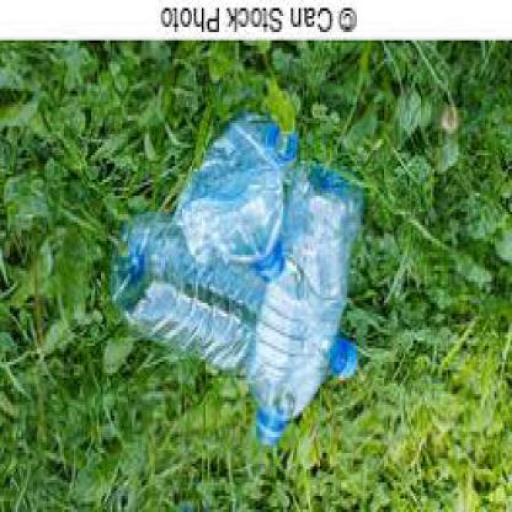plastic: (112, 212, 361, 389), (248, 164, 366, 448), (180, 142, 289, 284), (213, 116, 301, 184)
